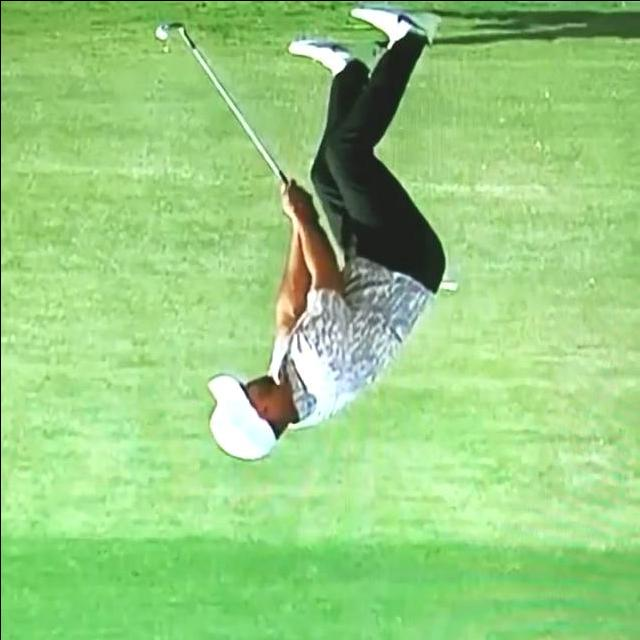ClubHandle: (156, 17, 319, 225)
ClubHead: (164, 20, 184, 30)
GolfBall: (156, 26, 164, 39)
